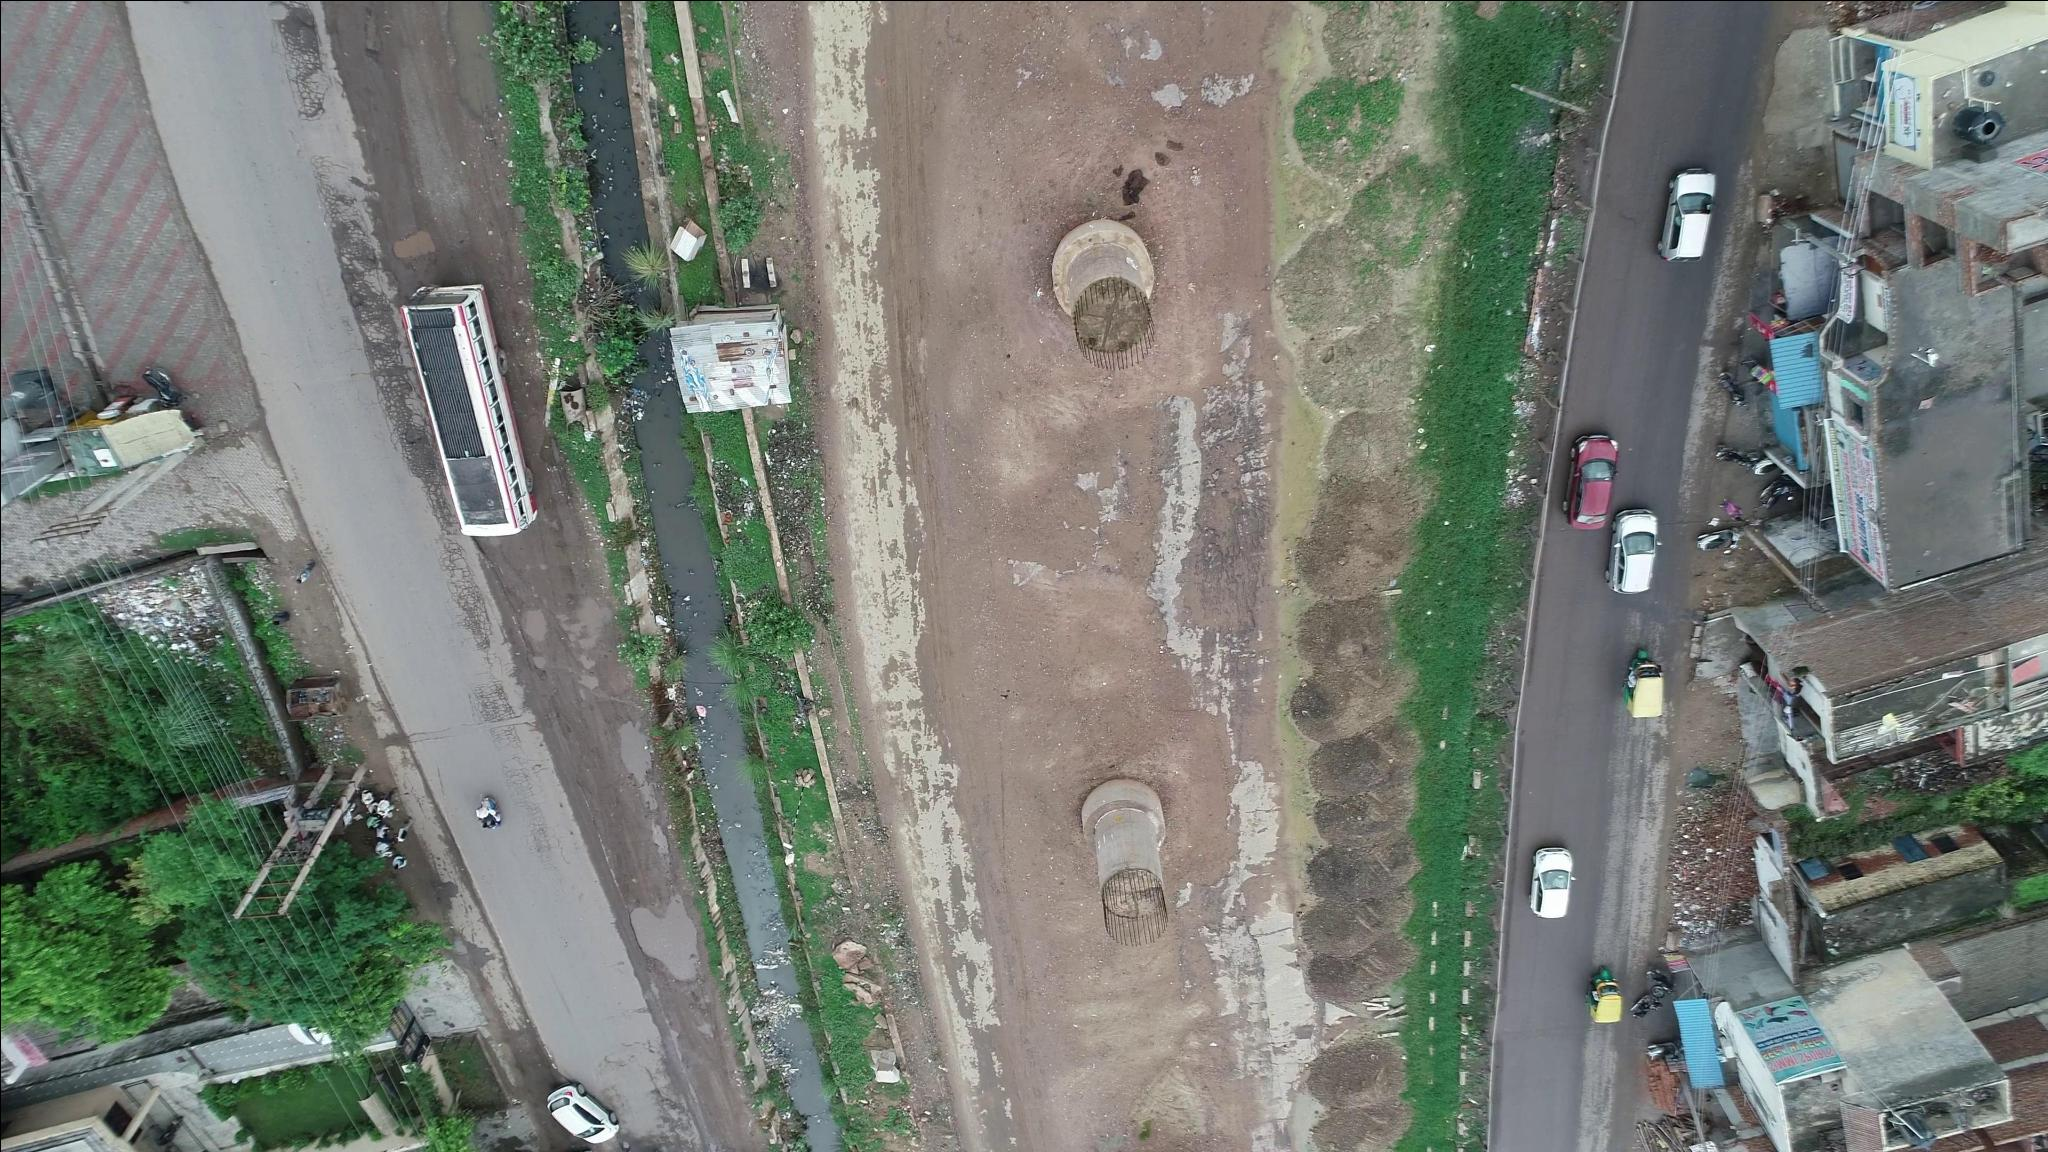Muddy_road: (492, 565, 670, 847)
Waterlogging: (608, 873, 715, 1010)
